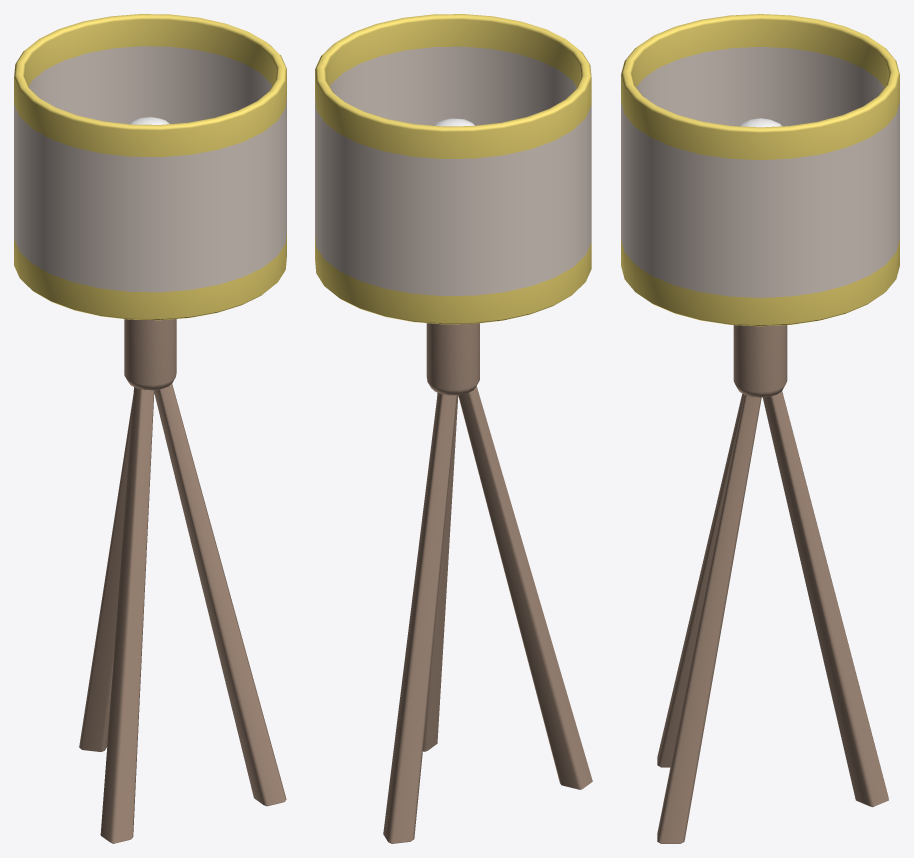
Rendered from Stand_1.glb.
3 renders of one model, left to right at view 1: azimuth 30°, elevation 25°; view 2: azimuth 150°, elevation 25°; view 3: azimuth 270°, elevation 25°, orthographic.
Visible parts, largest first — view 1: Lamp_10; view 2: Lamp_10; view 3: Lamp_10.
Part boxes in pixels (x1,y1,x2,y2): Lamp_10: (14,14,286,843); Lamp_10: (315,14,592,843); Lamp_10: (621,14,899,843).
Bounding box in the file's own units: 0.5598 × 1.62 × 0.5598.
Materials: 2 (1 with a texture image).
